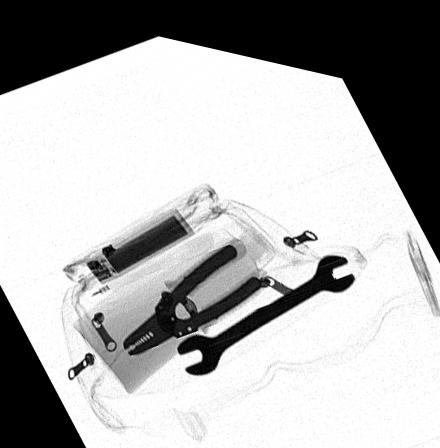Pliers: (122, 231, 264, 351)
Powerbank: (84, 200, 194, 280)
Wrench: (177, 237, 357, 367)
